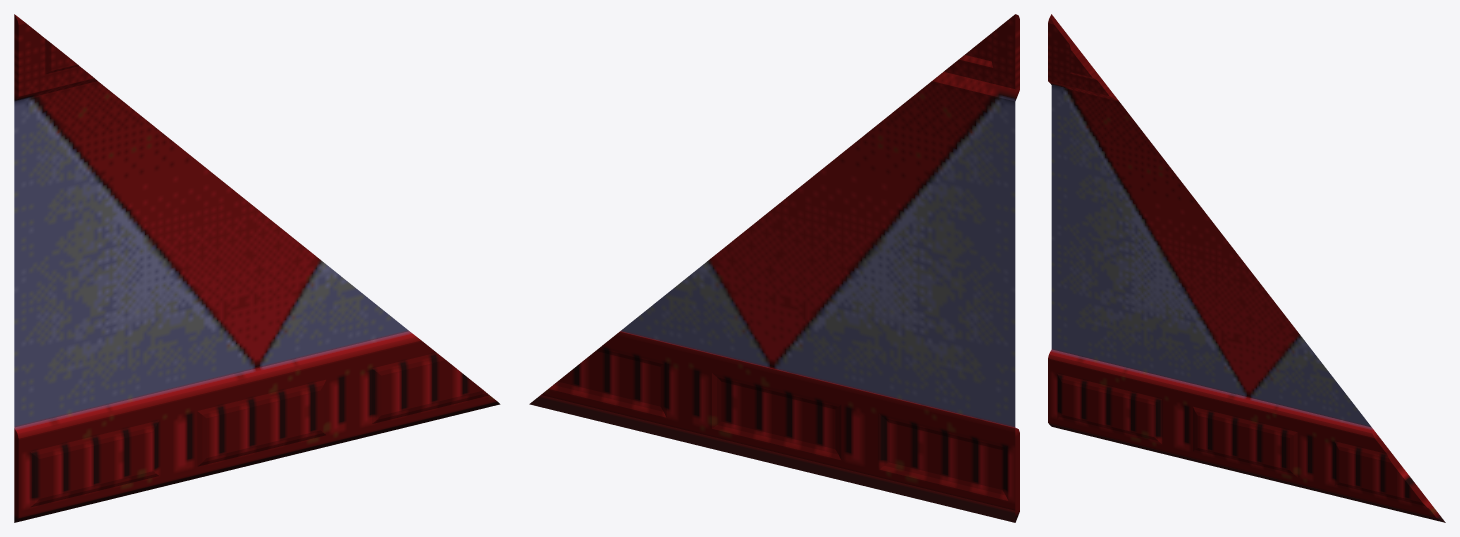
Rendered from sci1_2_slice45_lh.fbx.
3 renders of one model, left to right at view 1: azimuth 30°, elevation 25°; view 2: azimuth 150°, elevation 25°; view 3: azimuth 330°, elevation 25°, orthographic. The views are drawn at different scales.
Parts seen in each view (by area): view 1: sci2_2_mesh; view 2: sci2_2_mesh; view 3: sci2_2_mesh.
Boxes of the visible parts, x1=… form: sci2_2_mesh: x1=14, y1=14, x2=500, y2=522; sci2_2_mesh: x1=529, y1=14, x2=1019, y2=522; sci2_2_mesh: x1=1048, y1=14, x2=1445, y2=522.
Size of the model in its own units: 256 by 256 by 6.
